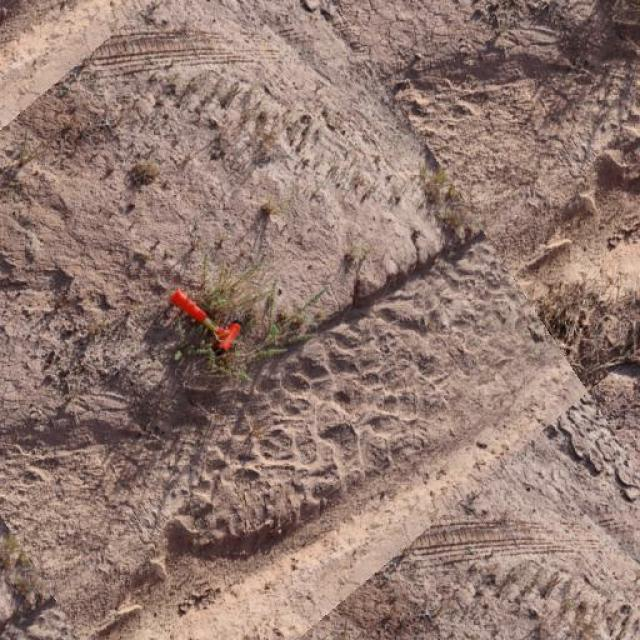mallet: (166, 286, 242, 352)
